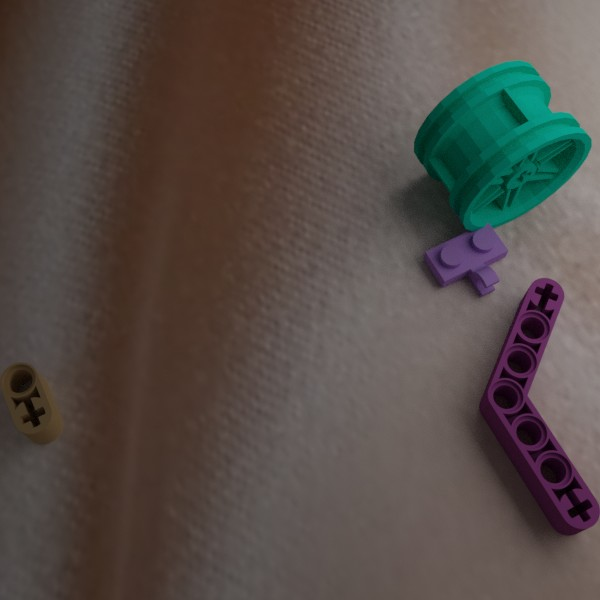lego: (479, 277, 600, 535), (413, 60, 591, 231), (423, 221, 508, 296), (0, 362, 63, 444)
